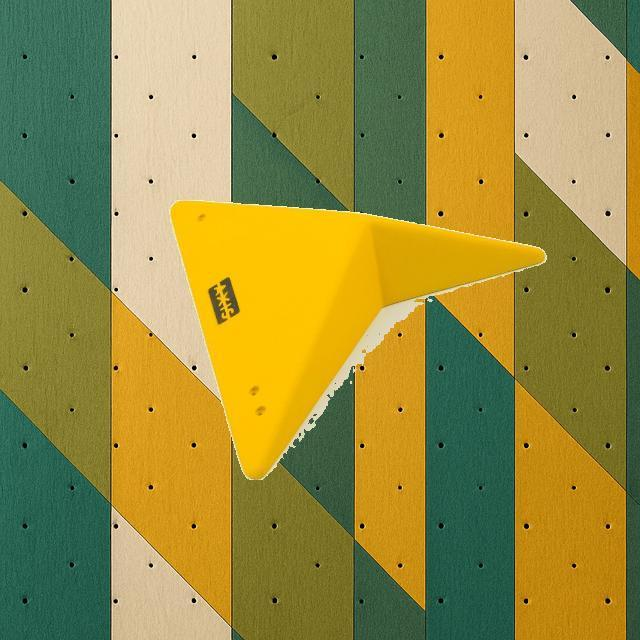Volume: (170, 199, 544, 481)
